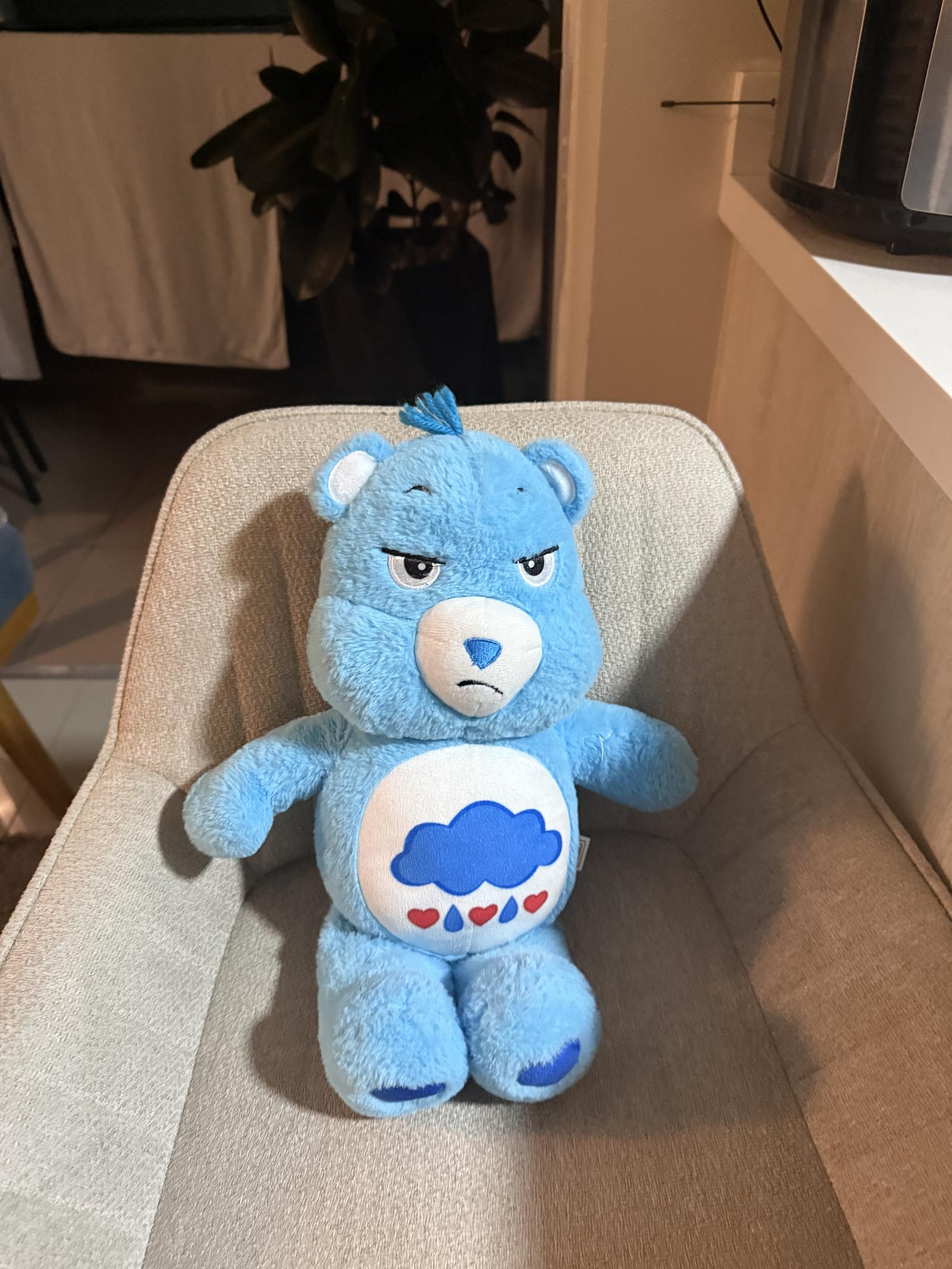peluche_Juan Jose: (178, 420, 707, 1124)
